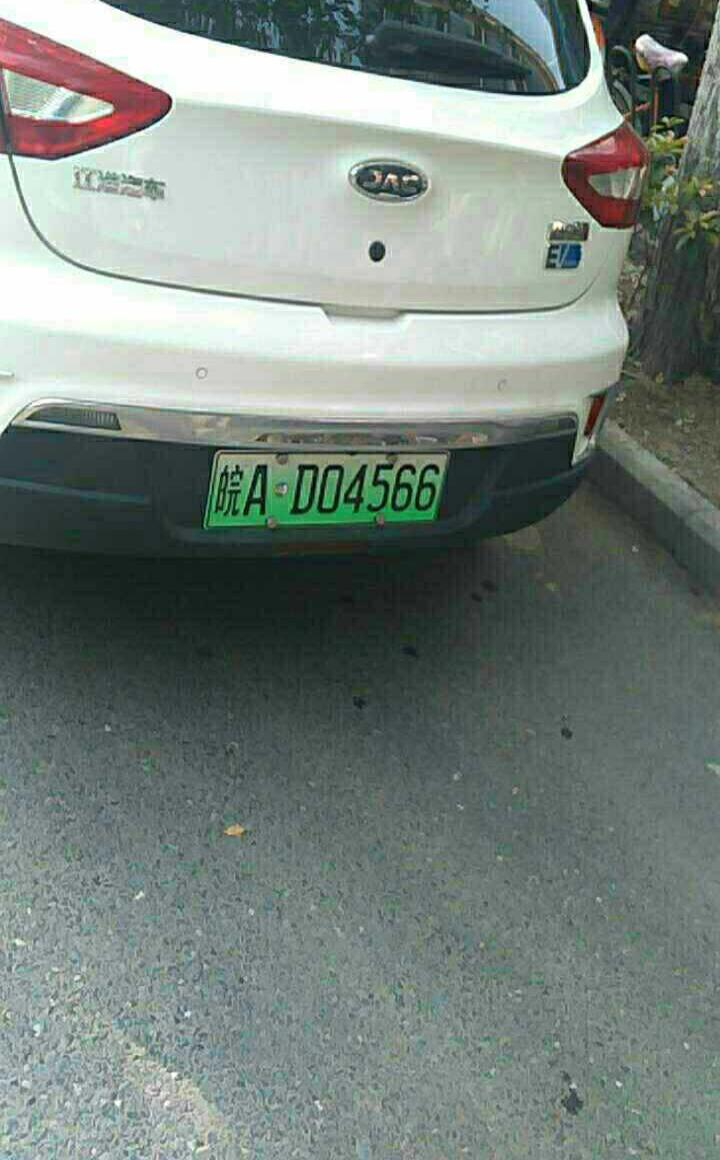car: (203, 446, 453, 530)
